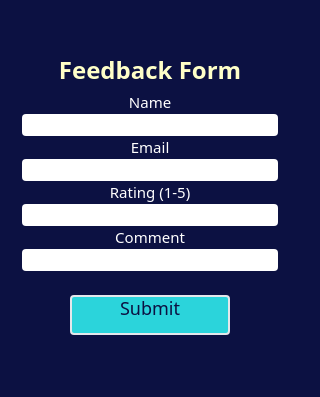
Test: Validation › should display an error message if rating field is inputted incorrectly
The width and height of the screenshot is (320, 397).
Type "6" into the field with test id "rating" at (150, 215), box [22,204,278,226]
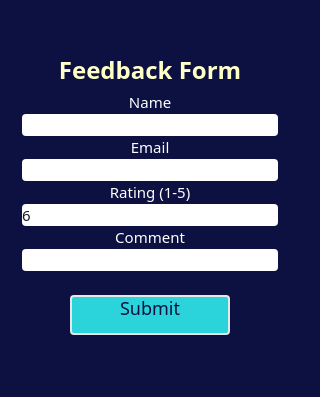
Submit the form from the button, box [70,271,230,335]
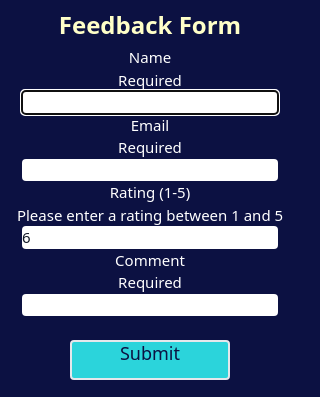
Now the text "Please enter a rating between 1 and 5" is shown, box [17,204,283,226]
